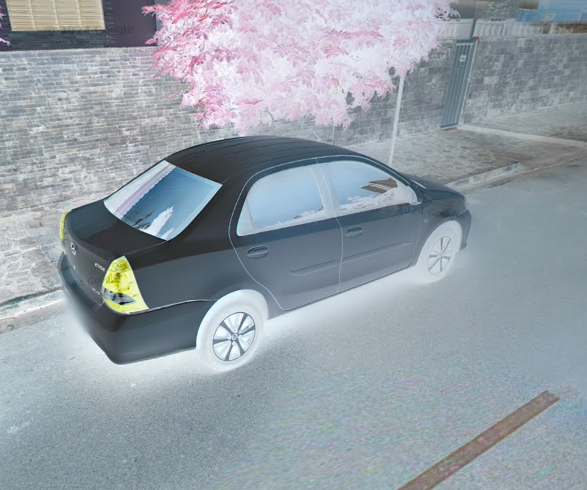car: (54, 125, 474, 371)
